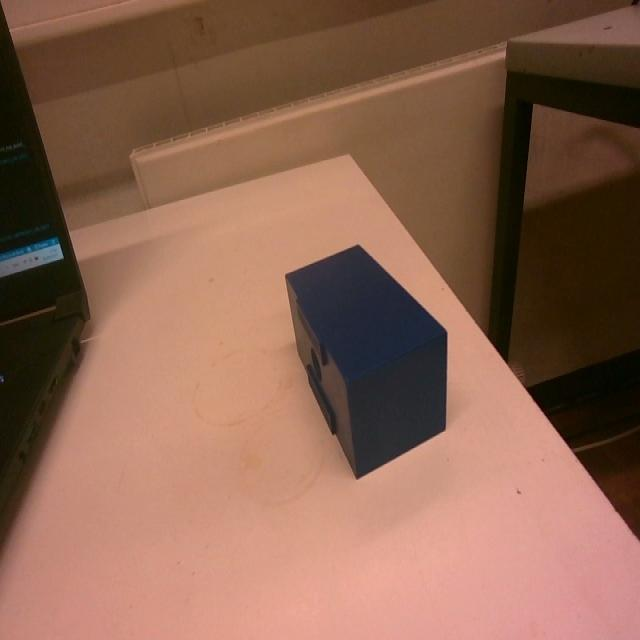Blue Cuboid: (282, 240, 449, 479)
